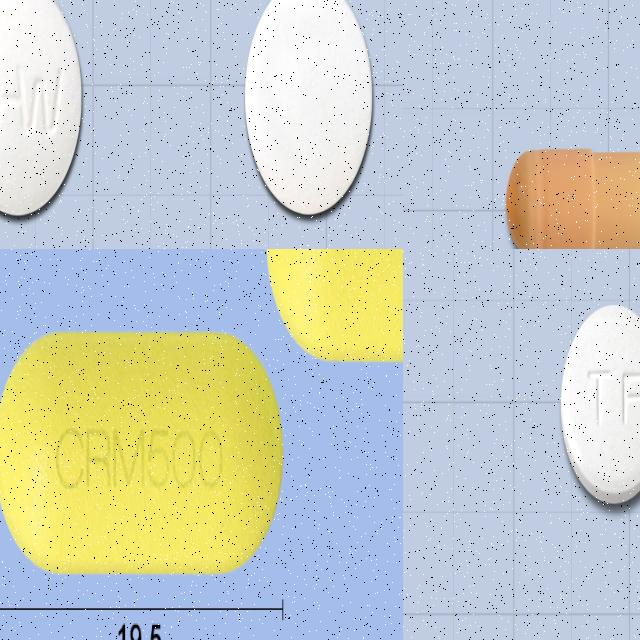Cefaxime Cap: (505, 144, 640, 249)
Cipoxacin: (240, 0, 380, 221), (0, 0, 85, 222)
Crama: (0, 328, 284, 573), (265, 249, 403, 357)
Curasil: (560, 303, 640, 506)
